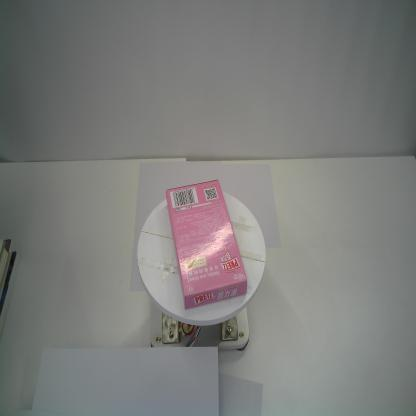Dessert: (165, 178, 248, 311)
